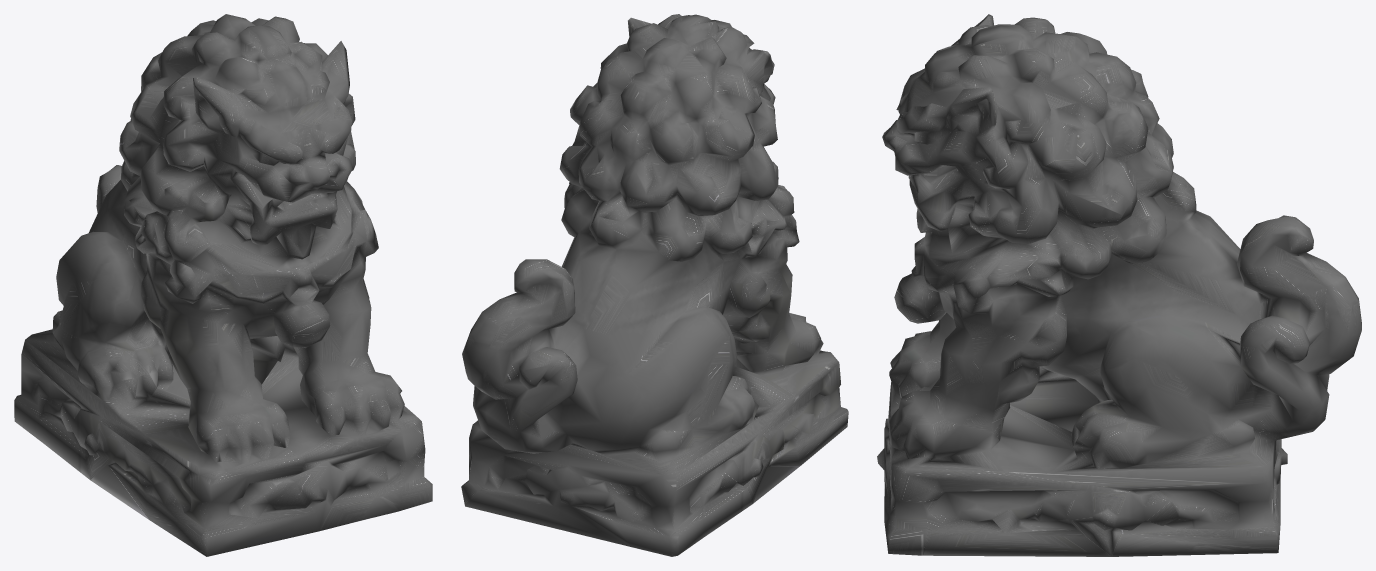
Rendered from prop_tuong_canh.2ca0926325.glb.
3 views of the same model, side by side, from view 1: azimuth 30°, elevation 25°; view 2: azimuth 150°, elevation 25°; view 3: azimuth 270°, elevation 25° (orthographic). The views are drawn at different scales.
Visible parts, largest first — view 1: prop_tuong_canh; view 2: prop_tuong_canh; view 3: prop_tuong_canh.
Boxes of the visible parts, left/top/right/bottom form: prop_tuong_canh: left=14, top=14, right=432, bottom=556; prop_tuong_canh: left=461, top=14, right=848, bottom=556; prop_tuong_canh: left=877, top=14, right=1361, bottom=556.
Size of what is drawn, in the model's own units: 1.02 by 1.8 by 1.68.
1 material, 1 textured.
